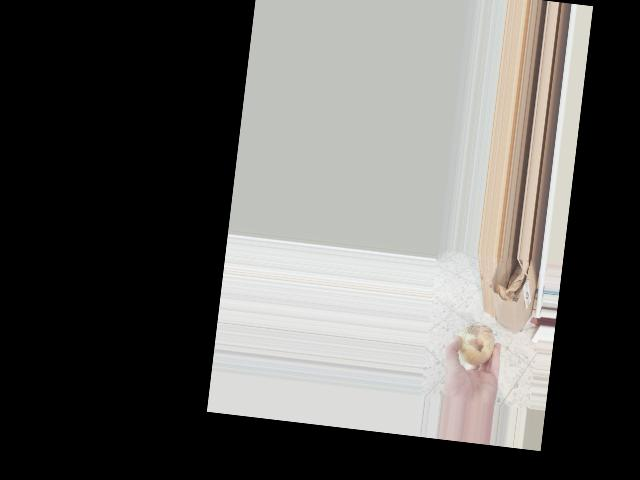onion: (451, 320, 496, 371)
